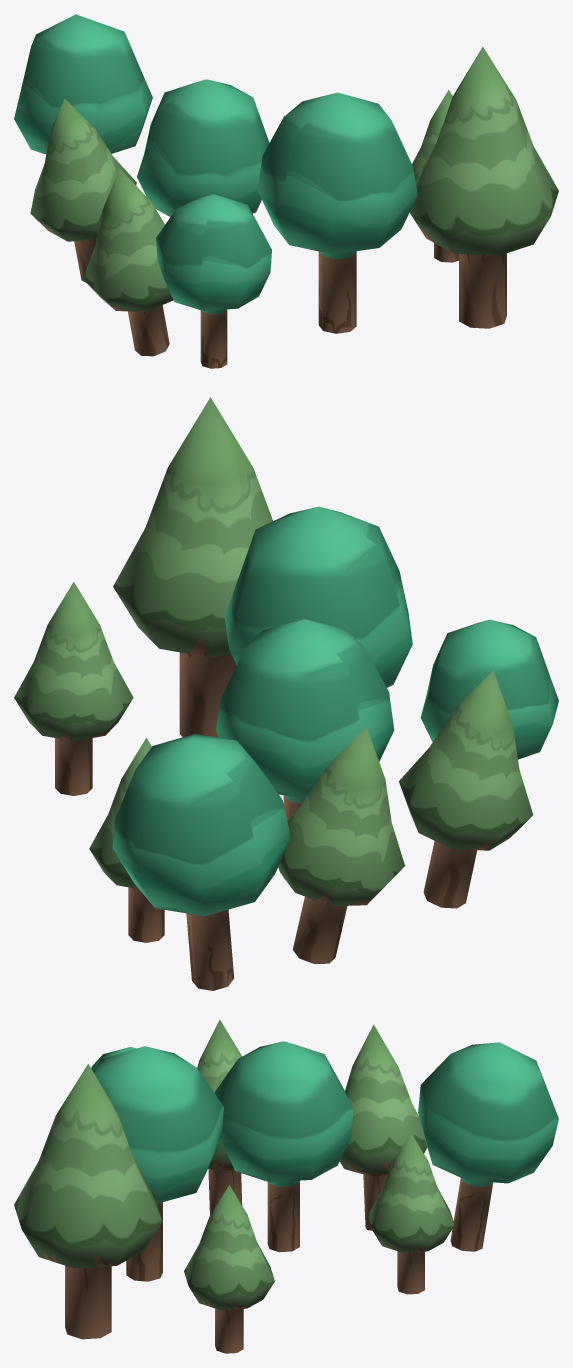
Rendered from Nature_01.fbx.
The picture shows the model from 3 angles, top to bottom: view 1: azimuth 30°, elevation 25°; view 2: azimuth 150°, elevation 25°; view 3: azimuth 270°, elevation 25°; orthographic projection. The views are drawn at different scales.
Parts seen in each view (by area): view 1: Nature_01; view 2: Nature_01; view 3: Nature_01.
Boxes of the visible parts, bbox=[...] form: Nature_01: bbox=[14, 14, 558, 368]; Nature_01: bbox=[14, 397, 558, 990]; Nature_01: bbox=[14, 1019, 558, 1353].
Size of the model in its own units: 67.02 by 46.93 by 81.23.
